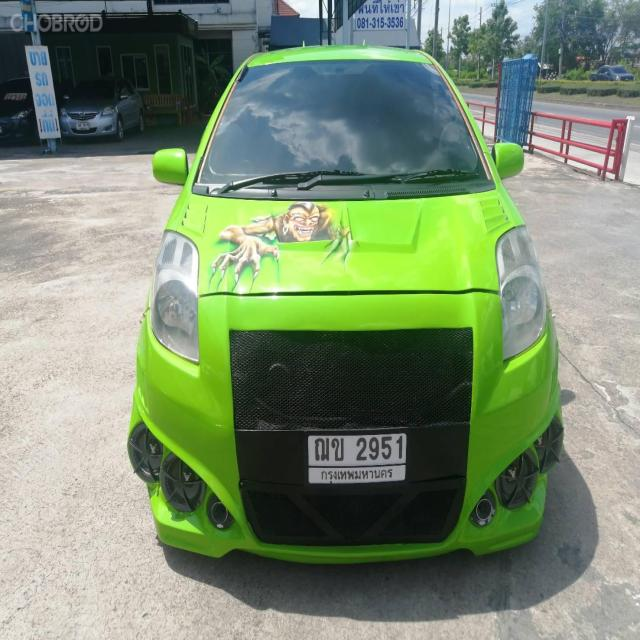license_plate: (302, 425, 409, 489)
